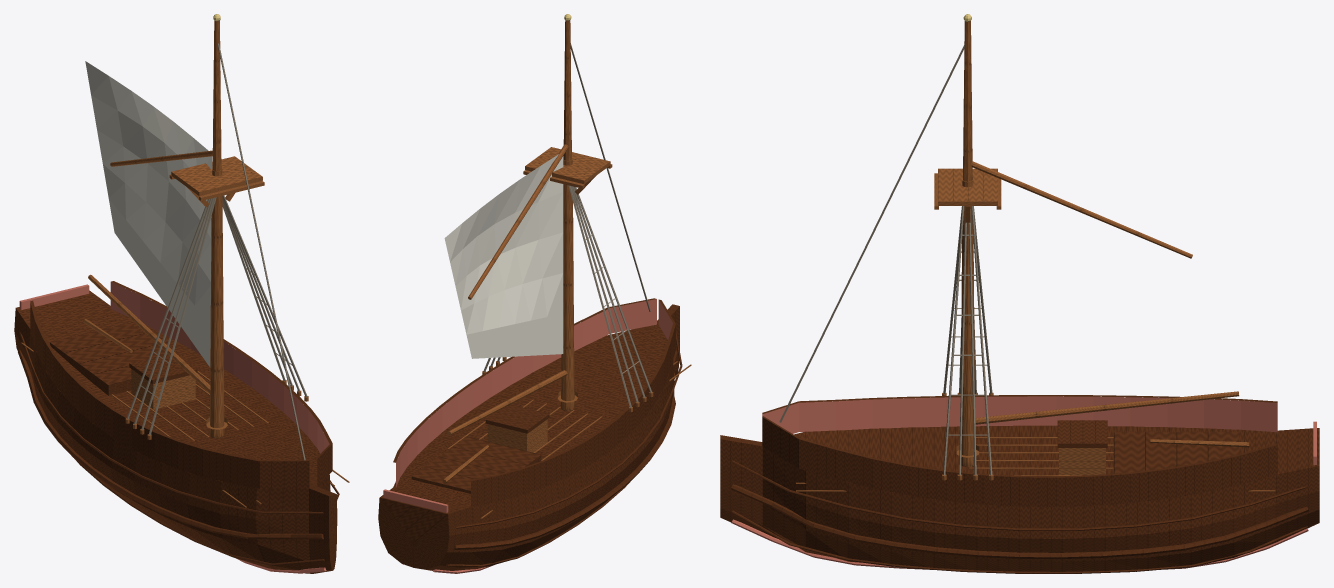
Rendered from pirate-port-and-tall-ships-sloop-single-masted-b254f28a__30148.glb.
The picture shows the model from 3 angles, left to right: view 1: azimuth 30°, elevation 25°; view 2: azimuth 150°, elevation 25°; view 3: azimuth 270°, elevation 25°; orthographic projection. The views are drawn at different scales.
Visible parts, largest first — view 1: sloop-single-masted; view 2: sloop-single-masted; view 3: sloop-single-masted.
Boxes of the visible parts, <box> form: sloop-single-masted: <box>14,14,349,573</box>; sloop-single-masted: <box>378,14,691,573</box>; sloop-single-masted: <box>720,14,1319,573</box>.
Bounding box in the file's own units: 3.96 × 11.45 × 11.5.
6 materials, 2 textured.
